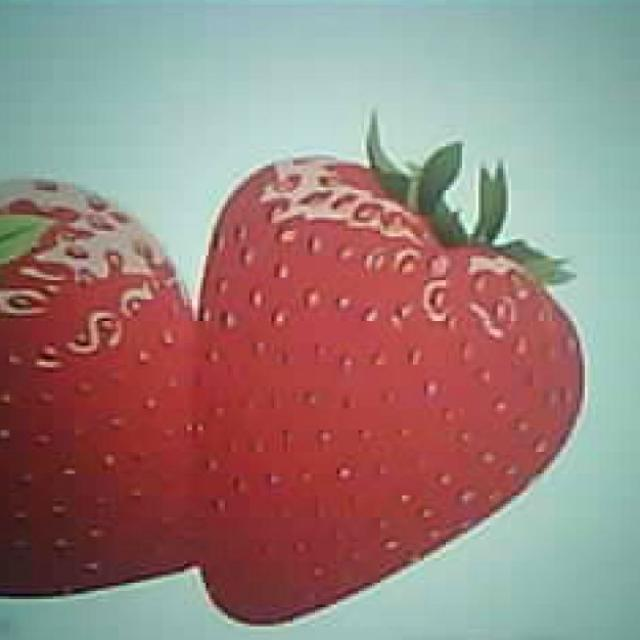Healthy Fruit: (190, 110, 588, 626)
